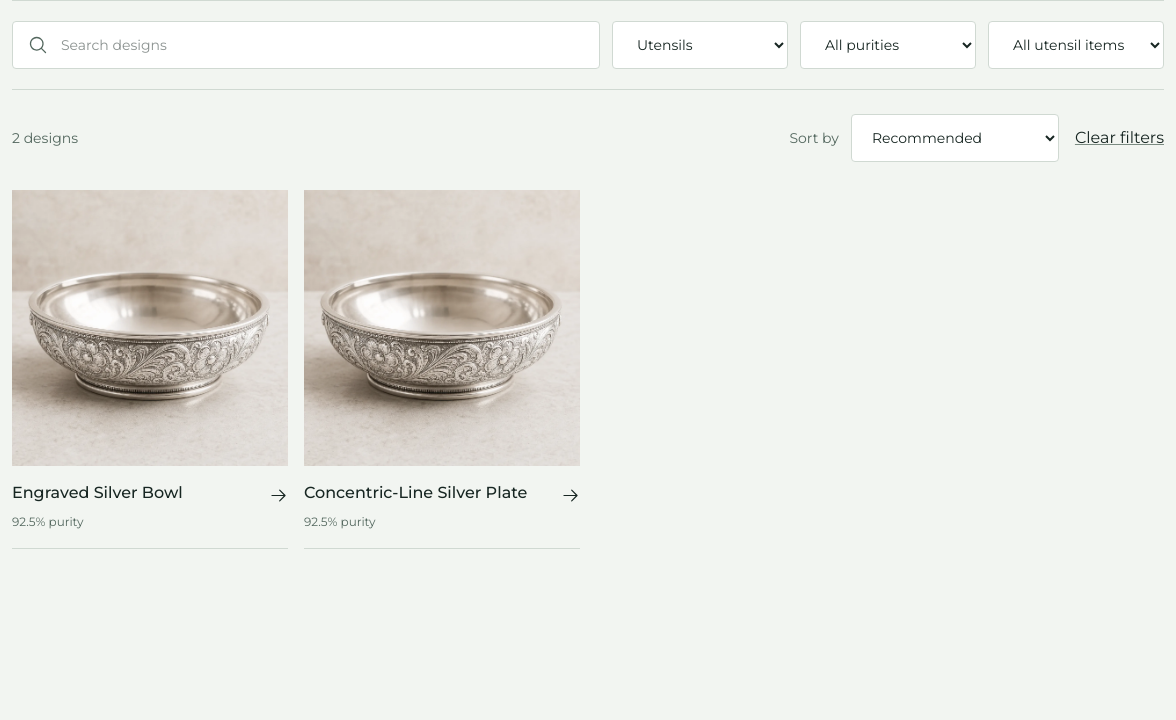
Test: <CatalogBrowser /> › filters utensils by bowl or plate
Select "Plate" in the 3rd dropdown named "Filter by utensil item type" at (1076, 45), box [988, 21, 1164, 69]
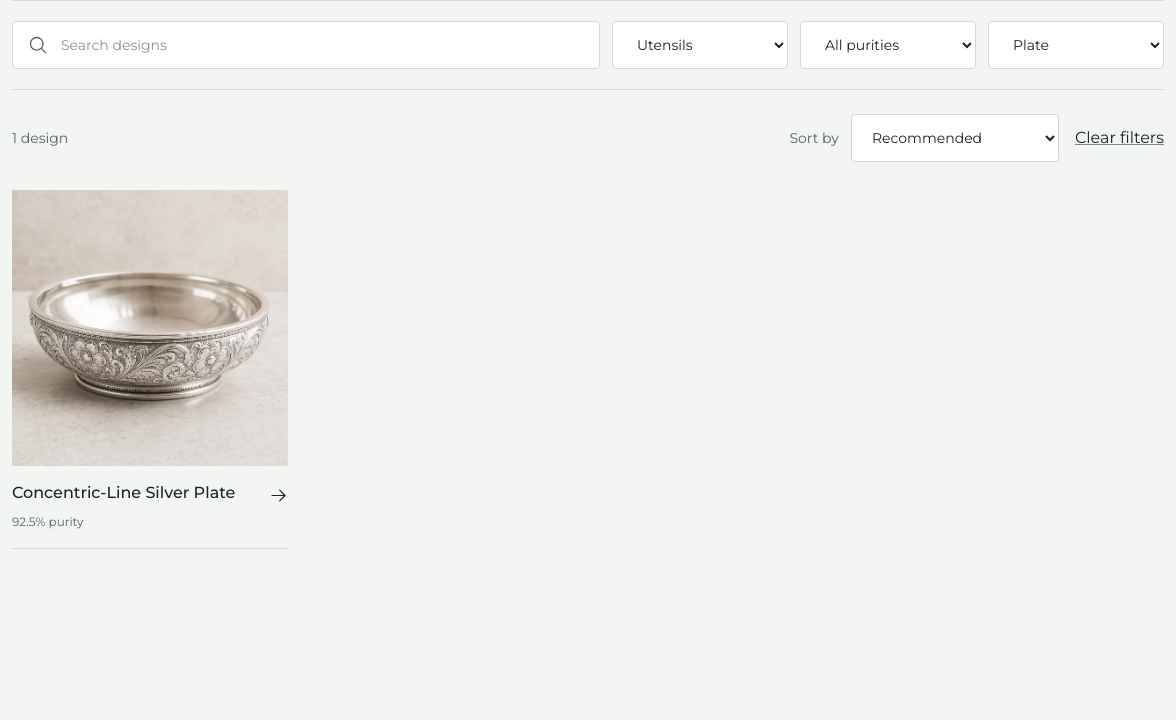
Check: the heading "Concentric-Line Silver Plate" is shown, box [12, 482, 235, 504]
Check: the link "Engraved Silver Bowl" is gone
